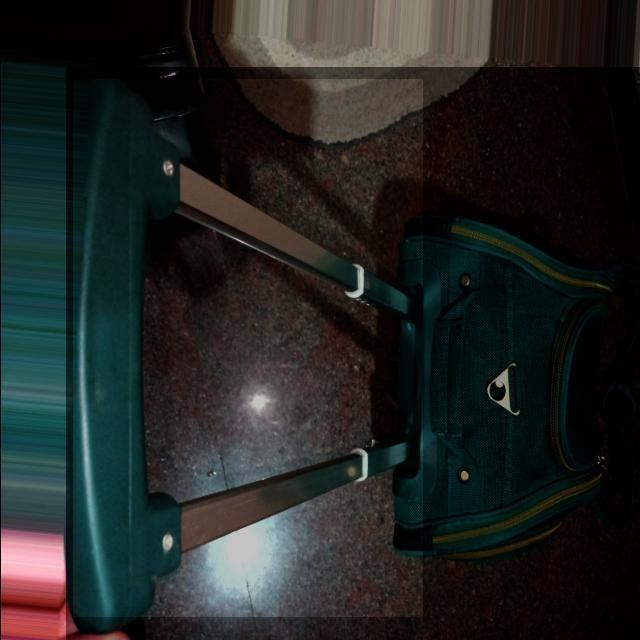Suitcase: (46, 82, 634, 640)
